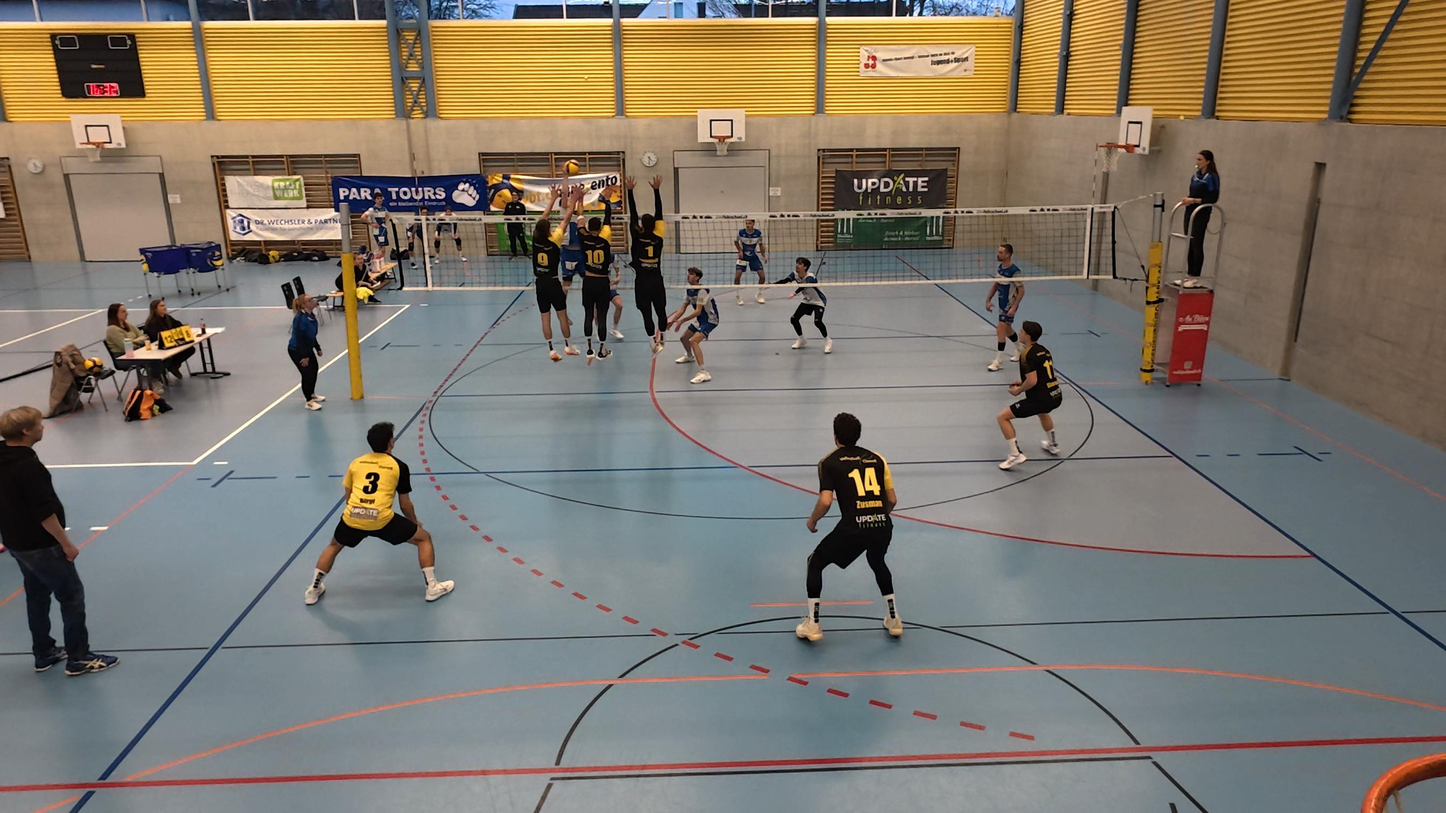Attack: (548, 161, 589, 291)
Block: (567, 177, 621, 365), (523, 186, 579, 365), (626, 175, 674, 361)
Player: (305, 422, 454, 605), (797, 413, 902, 643), (997, 322, 1063, 468), (781, 255, 834, 352), (676, 272, 719, 385), (985, 242, 1022, 371), (728, 219, 771, 306)
ball: (563, 158, 581, 178)
